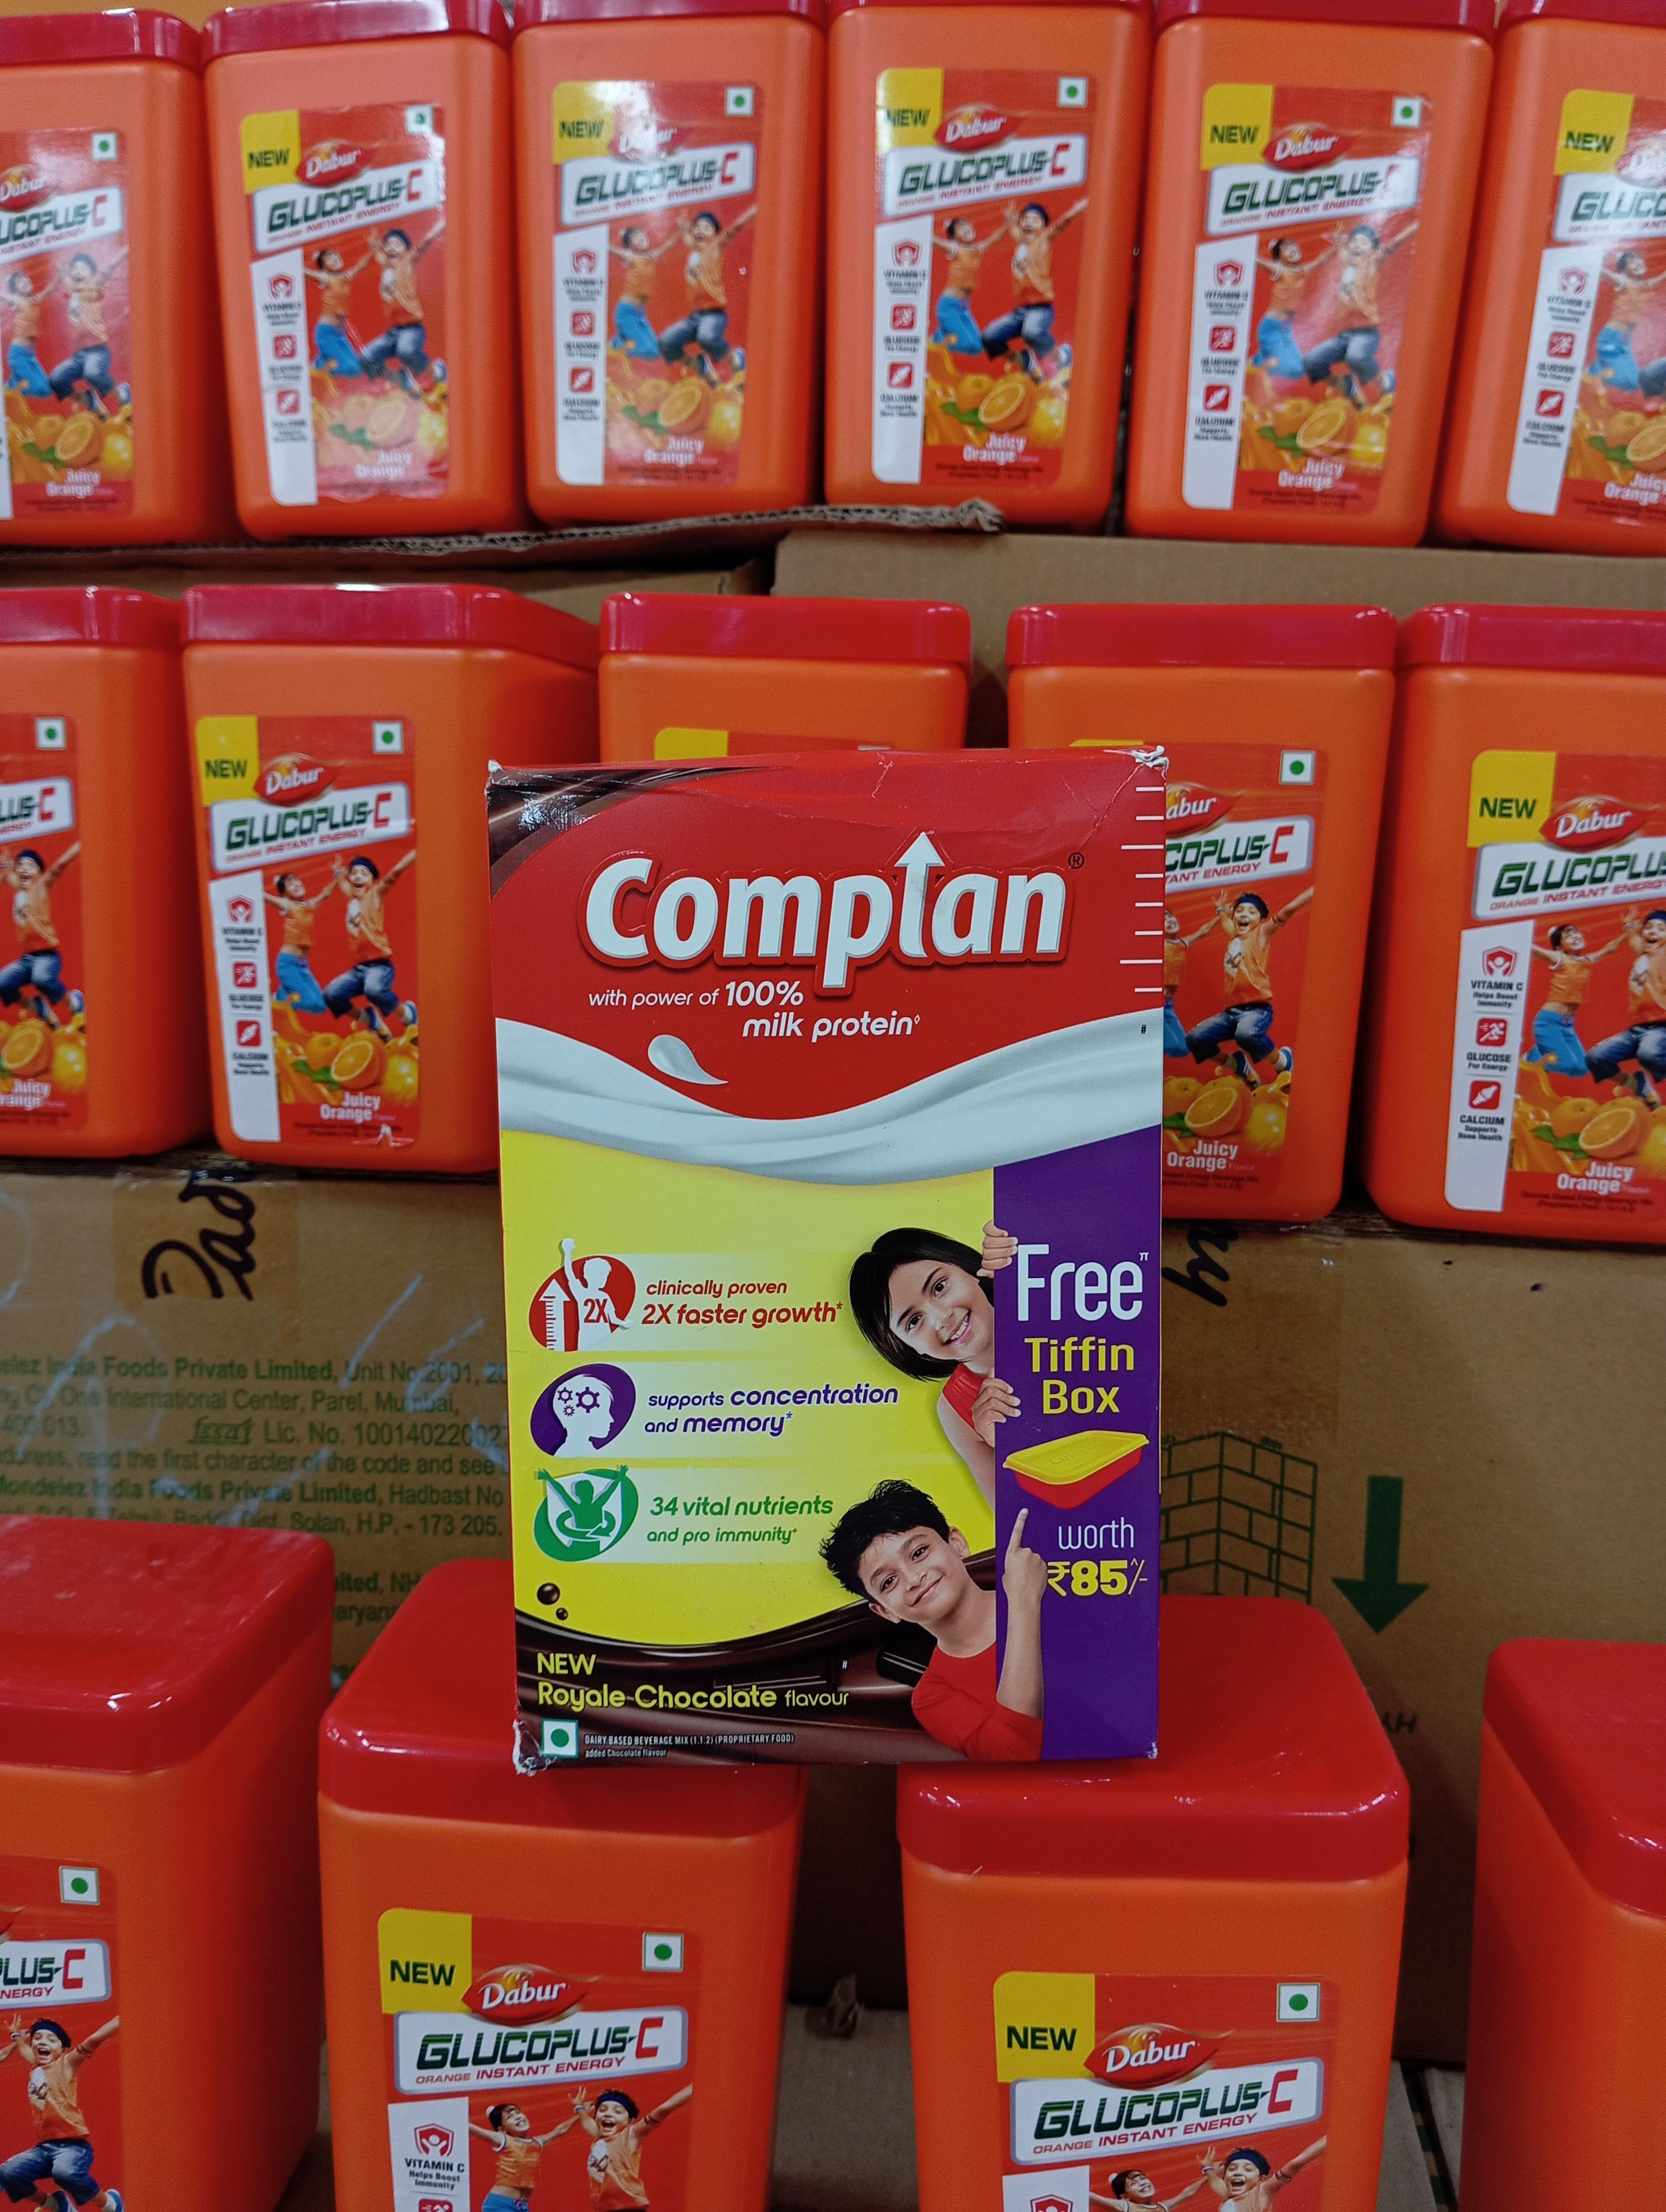COMPLAN_CHOCOLATE_500_GMS_PACK: (488, 733, 1145, 1773)
